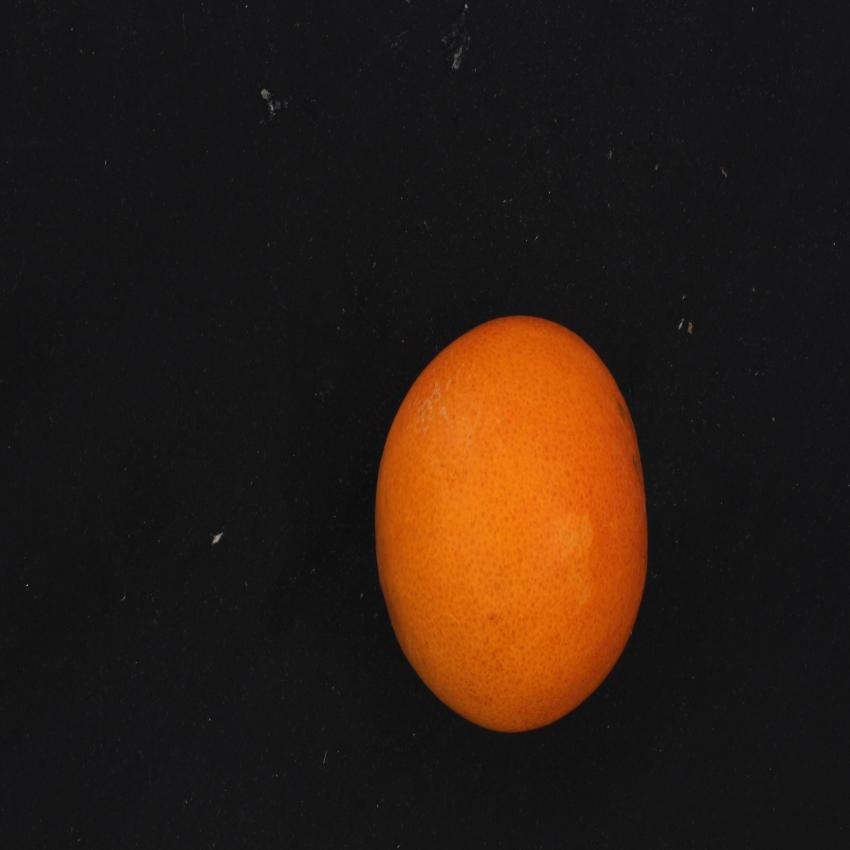Buen estado: (367, 291, 657, 743)
